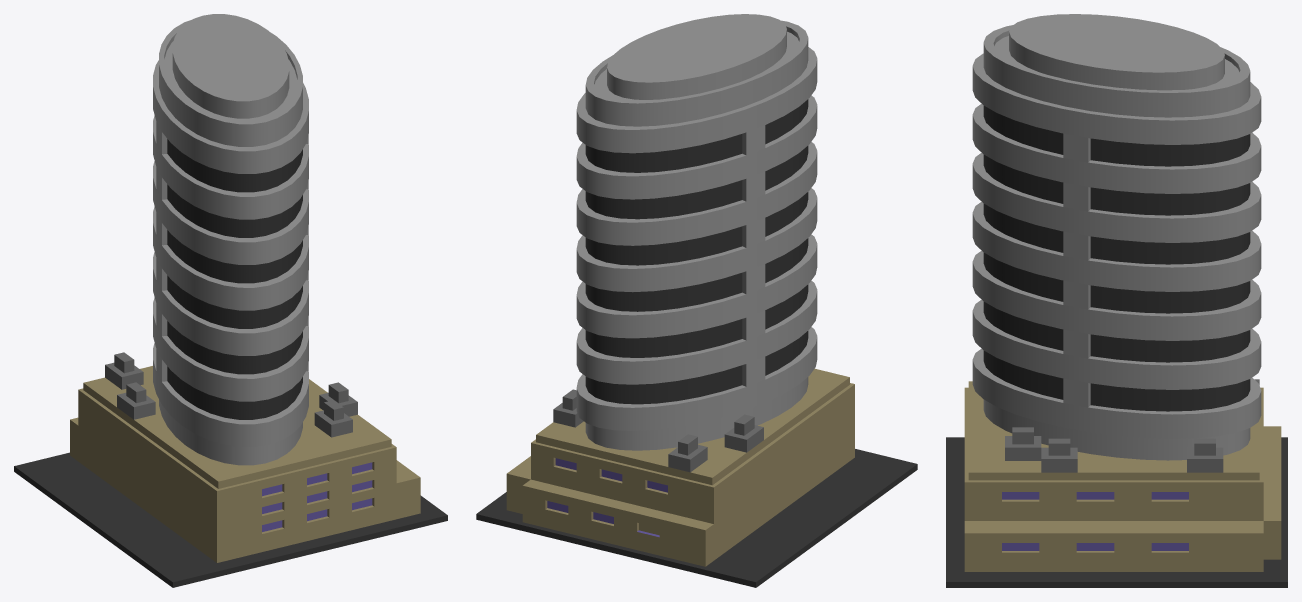
3 views of the same model, side by side, from view 1: azimuth 30°, elevation 25°; view 2: azimuth 150°, elevation 25°; view 3: azimuth 270°, elevation 25° (orthographic). The views are drawn at different scales.
Parts seen in each view (by area): view 1: Cylinder.042, Cube.011, Floor.006; view 2: Cylinder.042, Cube.011, Floor.006; view 3: Cylinder.042, Cube.011, Floor.006.
Boxes of the visible parts, bbox=[...] form: Cylinder.042: bbox=[153, 14, 308, 465]; Cube.011: bbox=[70, 352, 420, 562]; Floor.006: bbox=[14, 452, 447, 587]; Cylinder.042: bbox=[576, 14, 817, 450]; Cube.011: bbox=[506, 368, 854, 566]; Floor.006: bbox=[476, 449, 917, 587]; Cylinder.042: bbox=[972, 14, 1261, 460]; Cube.011: bbox=[964, 379, 1281, 571]; Floor.006: bbox=[946, 437, 1287, 587].
Size of the model in its own units: 800 by 1219 by 800.
